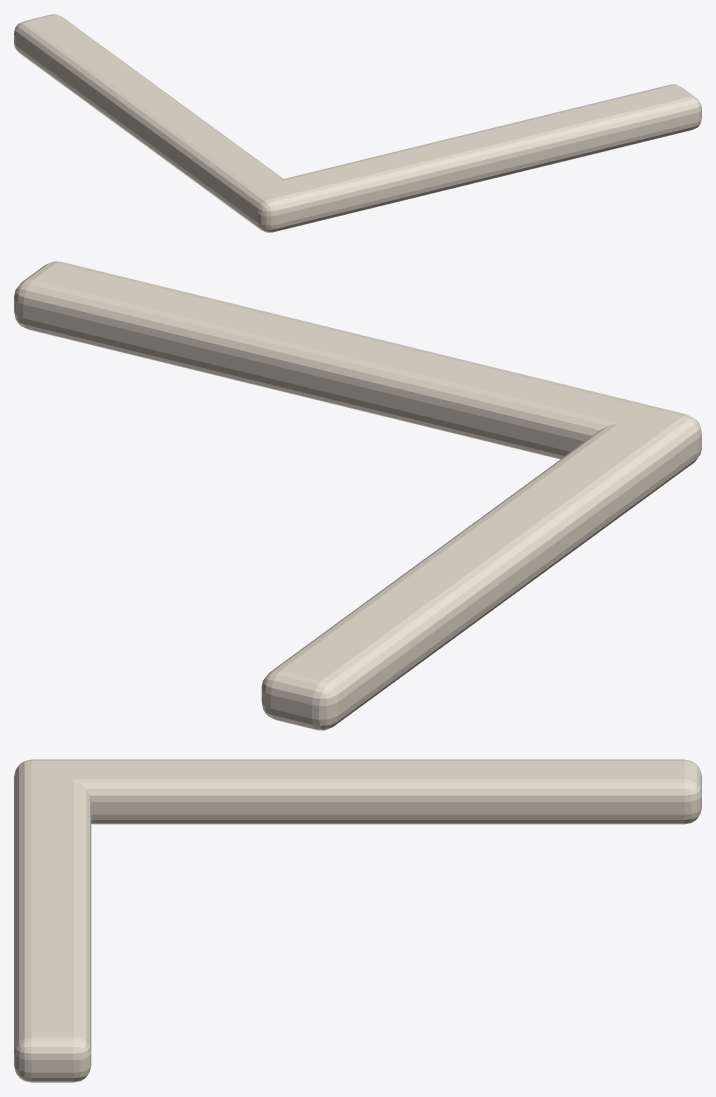
The picture shows the model from 3 angles, top to bottom: view 1: azimuth 30°, elevation 25°; view 2: azimuth 150°, elevation 25°; view 3: azimuth 270°, elevation 25°; orthographic projection. The views are drawn at different scales.
Parts seen in each view (by area): view 1: LOD0_PLAZA_EDGE_CORNER_4M_CurbX, LOD0_PLAZA_EDGE_CORNER_4M_CurbY; view 2: LOD0_PLAZA_EDGE_CORNER_4M_CurbX, LOD0_PLAZA_EDGE_CORNER_4M_CurbY; view 3: LOD0_PLAZA_EDGE_CORNER_4M_CurbY, LOD0_PLAZA_EDGE_CORNER_4M_CurbX.
Boxes of the visible parts, x1,y1,x2,y2 form: LOD0_PLAZA_EDGE_CORNER_4M_CurbX: (254, 84, 701, 232); LOD0_PLAZA_EDGE_CORNER_4M_CurbY: (14, 14, 295, 232); LOD0_PLAZA_EDGE_CORNER_4M_CurbX: (14, 261, 696, 459); LOD0_PLAZA_EDGE_CORNER_4M_CurbY: (261, 409, 701, 730); LOD0_PLAZA_EDGE_CORNER_4M_CurbY: (25, 759, 701, 824); LOD0_PLAZA_EDGE_CORNER_4M_CurbX: (14, 760, 91, 1082).
Size of what is drawn, in the model's own units: 4 by 0.28 by 4.01.
